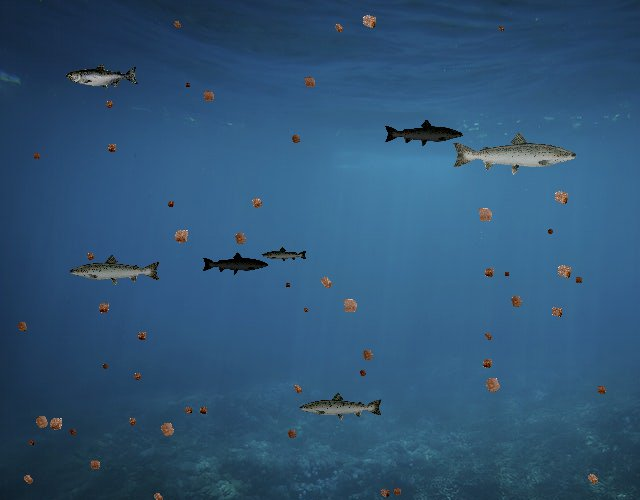Fish: (450, 130, 579, 176), (68, 253, 162, 287), (298, 391, 384, 422), (384, 119, 465, 148), (66, 64, 139, 90), (202, 252, 270, 276), (262, 247, 309, 264)
Pellet: (167, 223, 195, 251), (314, 270, 338, 294), (228, 227, 252, 251), (245, 192, 268, 215), (12, 316, 33, 337), (169, 16, 186, 33), (82, 249, 98, 265), (25, 436, 37, 448)
